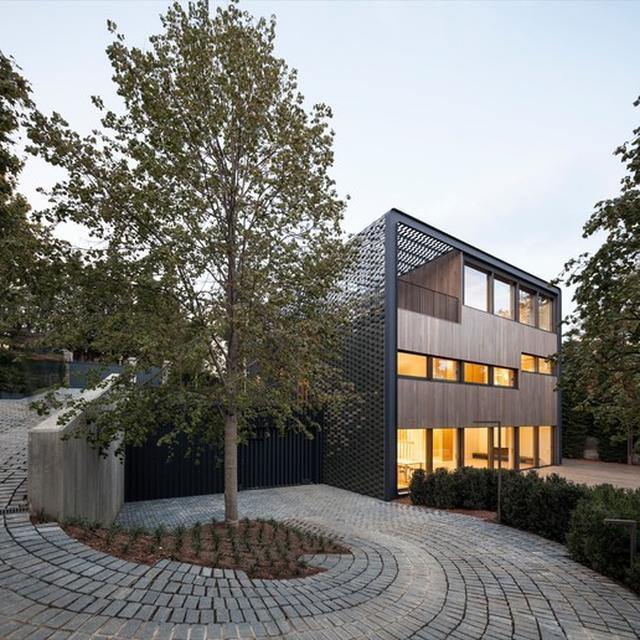building: (270, 202, 582, 488)
